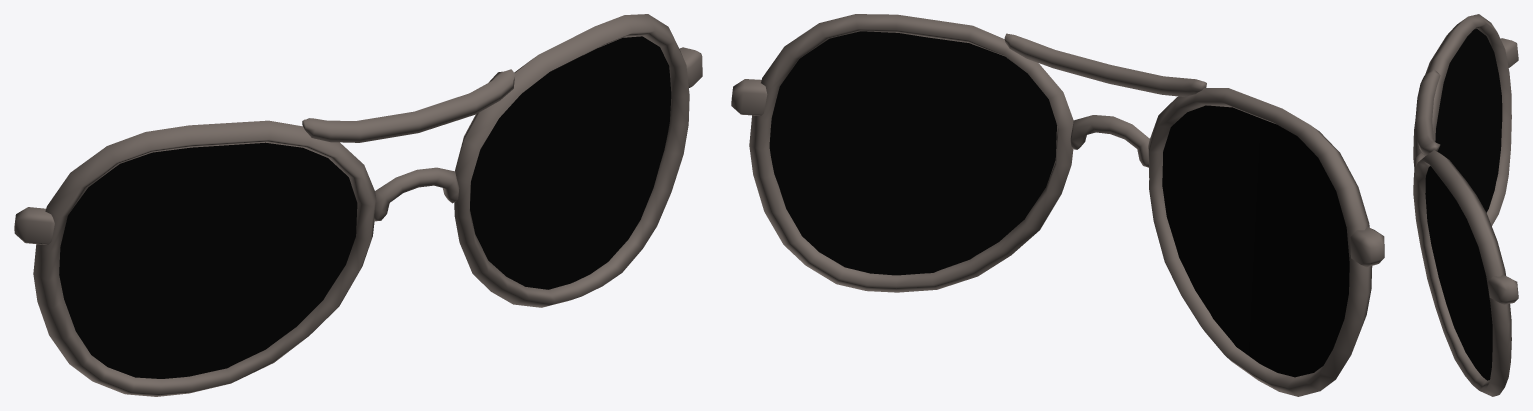
Rendered from AccessoryGlassDoublebridge2.glb.
3 views of the same model, side by side, from view 1: azimuth 30°, elevation 25°; view 2: azimuth 150°, elevation 25°; view 3: azimuth 270°, elevation 25° (orthographic). The views are drawn at different scales.
Parts seen in each view (by area): view 1: AccessoryAlpha1__mAccessoryAlpha, Accessory__mAccessory; view 2: AccessoryAlpha1__mAccessoryAlpha, Accessory__mAccessory; view 3: AccessoryAlpha1__mAccessoryAlpha, Accessory__mAccessory.
Part boxes in pixels (bbox=[...]): AccessoryAlpha1__mAccessoryAlpha: bbox=[59, 36, 671, 378]; Accessory__mAccessory: bbox=[14, 14, 702, 396]; AccessoryAlpha1__mAccessoryAlpha: bbox=[769, 31, 1349, 377]; Accessory__mAccessory: bbox=[731, 14, 1384, 396]; AccessoryAlpha1__mAccessoryAlpha: bbox=[1425, 29, 1502, 380]; Accessory__mAccessory: bbox=[1413, 14, 1518, 396].
Bounding box in the file's own units: 6.39 × 2.5 × 1.14.
2 materials, 2 textured.
